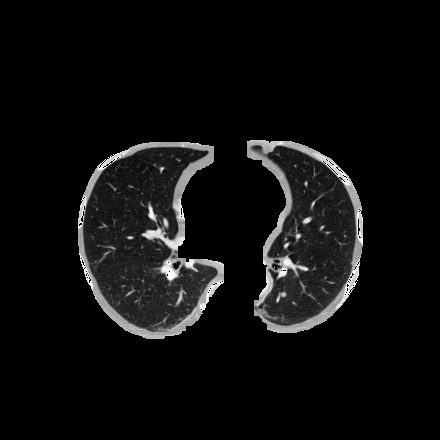PN: (280, 291, 286, 297)
